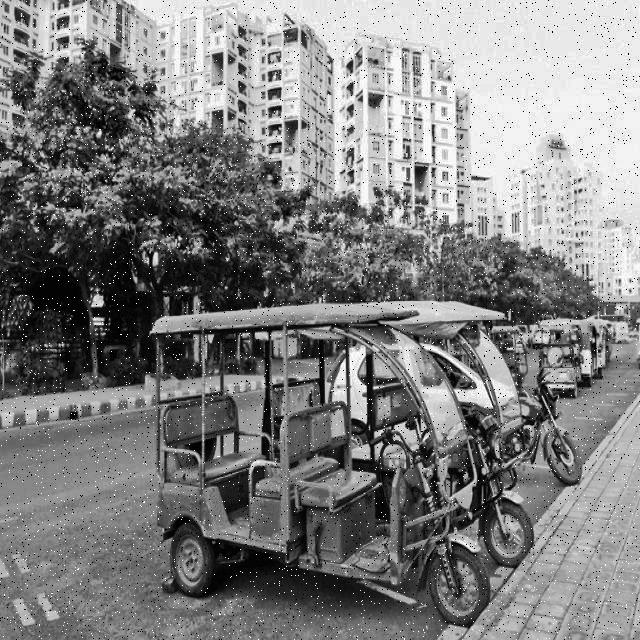Toto: (150, 304, 522, 602)
